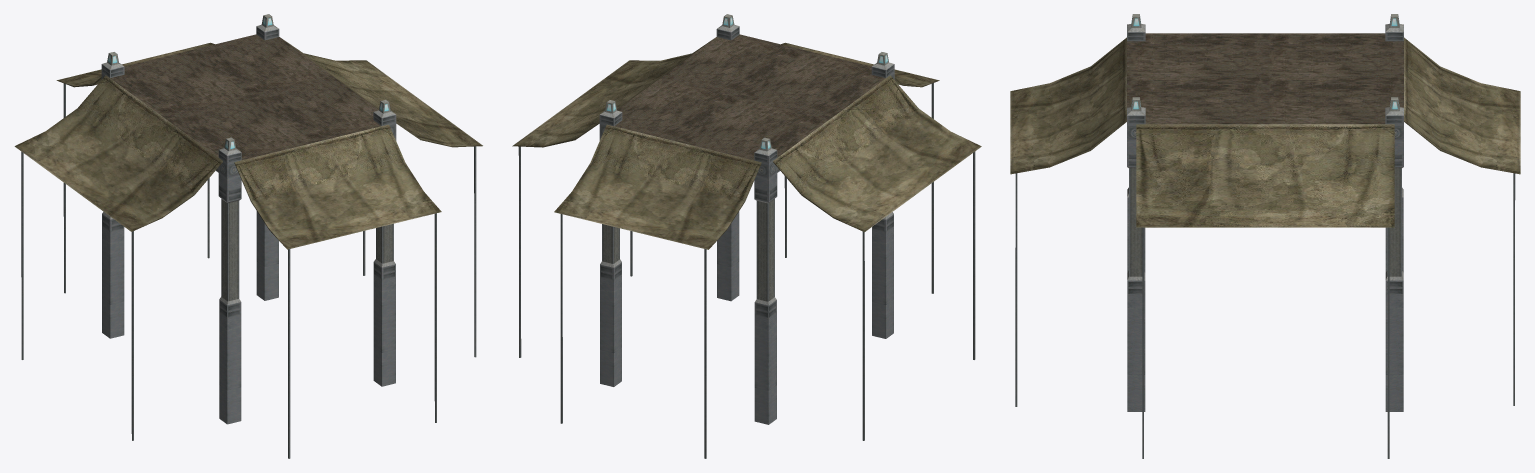
Rendered from eqp_camping_pavilion_s1_l0.fbx.
The picture shows the model from 3 angles, left to right: view 1: azimuth 30°, elevation 25°; view 2: azimuth 150°, elevation 25°; view 3: azimuth 270°, elevation 25°; orthographic projection. The views are drawn at different scales.
Parts seen in each view (by area): view 1: mesh_node; view 2: mesh_node; view 3: mesh_node.
Boxes of the visible parts, x1,y1,x2,y2 form: mesh_node: (14,14,482,458); mesh_node: (512,14,981,458); mesh_node: (1010,14,1520,458).
Bounding box in the file's own units: 14.58 × 11.1 × 16.58.
